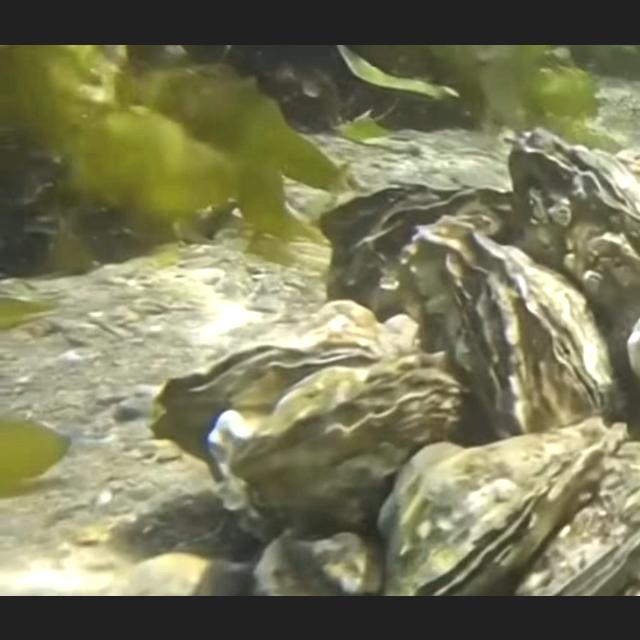Oyster-Closed: (206, 351, 462, 523), (420, 221, 620, 439), (512, 476, 640, 596)
Oyster-Open: (376, 413, 628, 595), (146, 334, 382, 484), (315, 181, 515, 319), (504, 126, 640, 327)
